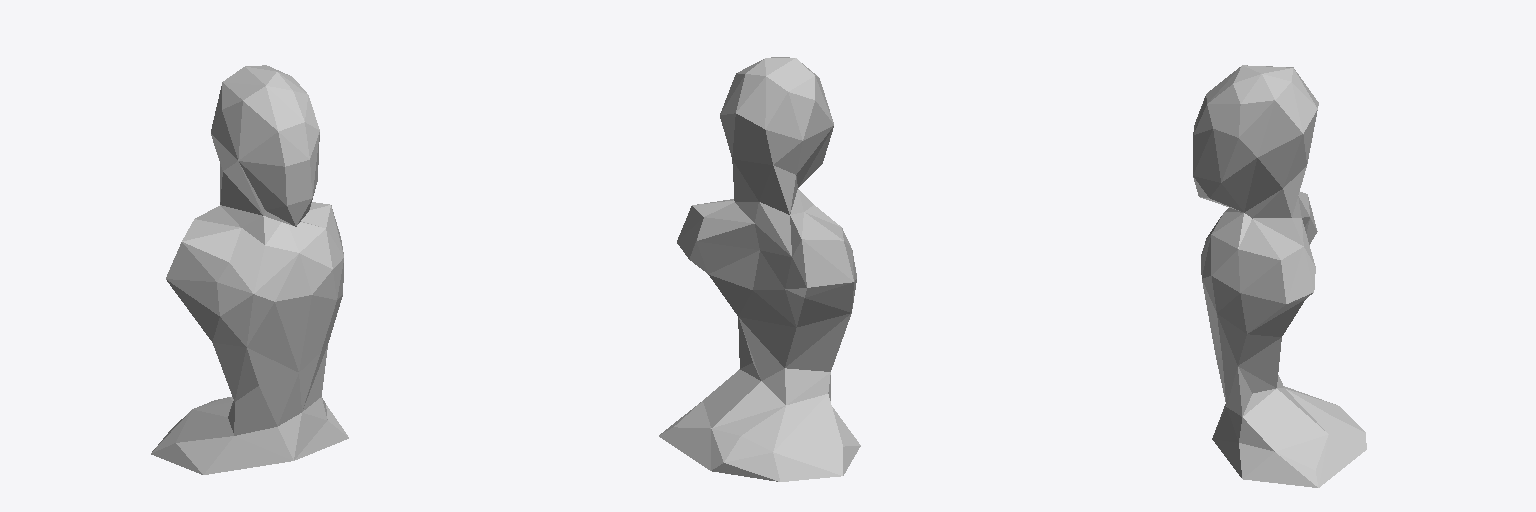
File: Statue12.obj
3 views of the same model, side by side, from view 1: azimuth 30°, elevation 25°; view 2: azimuth 150°, elevation 25°; view 3: azimuth 270°, elevation 25° (orthographic).
Visible parts, largest first — view 1: default; view 2: default; view 3: default.
Boxes of the visible parts, x1=… form: default: x1=151, y1=65, x2=348, y2=474; default: x1=659, y1=57, x2=860, y2=481; default: x1=1193, y1=65, x2=1366, y2=487.
Bounding box in the file's own units: 1.67 × 3.32 × 1.39.